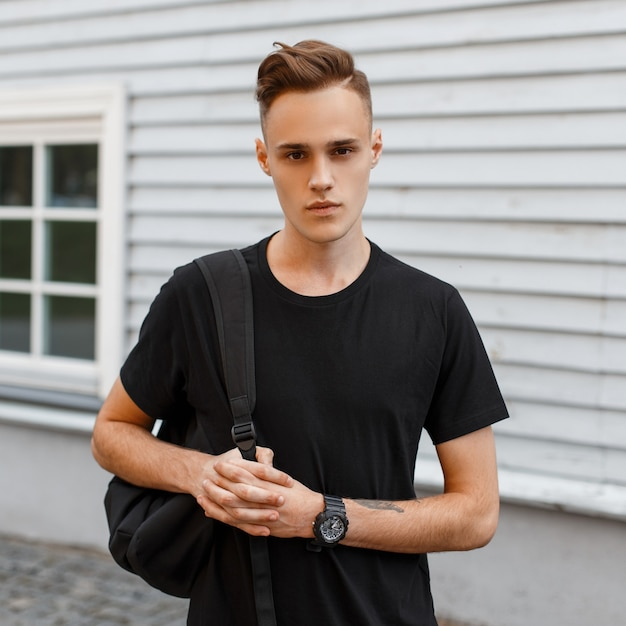teen: (219, 25, 405, 268)
